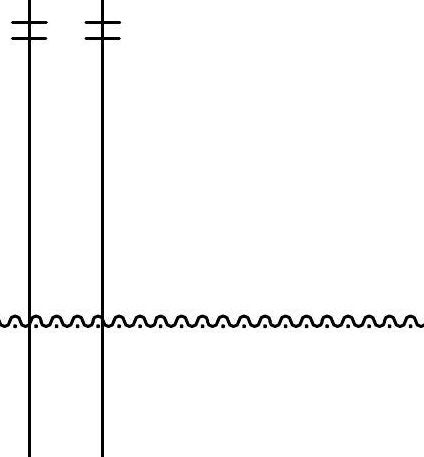115_buffer: (11, 21, 48, 40), (84, 21, 121, 40)
